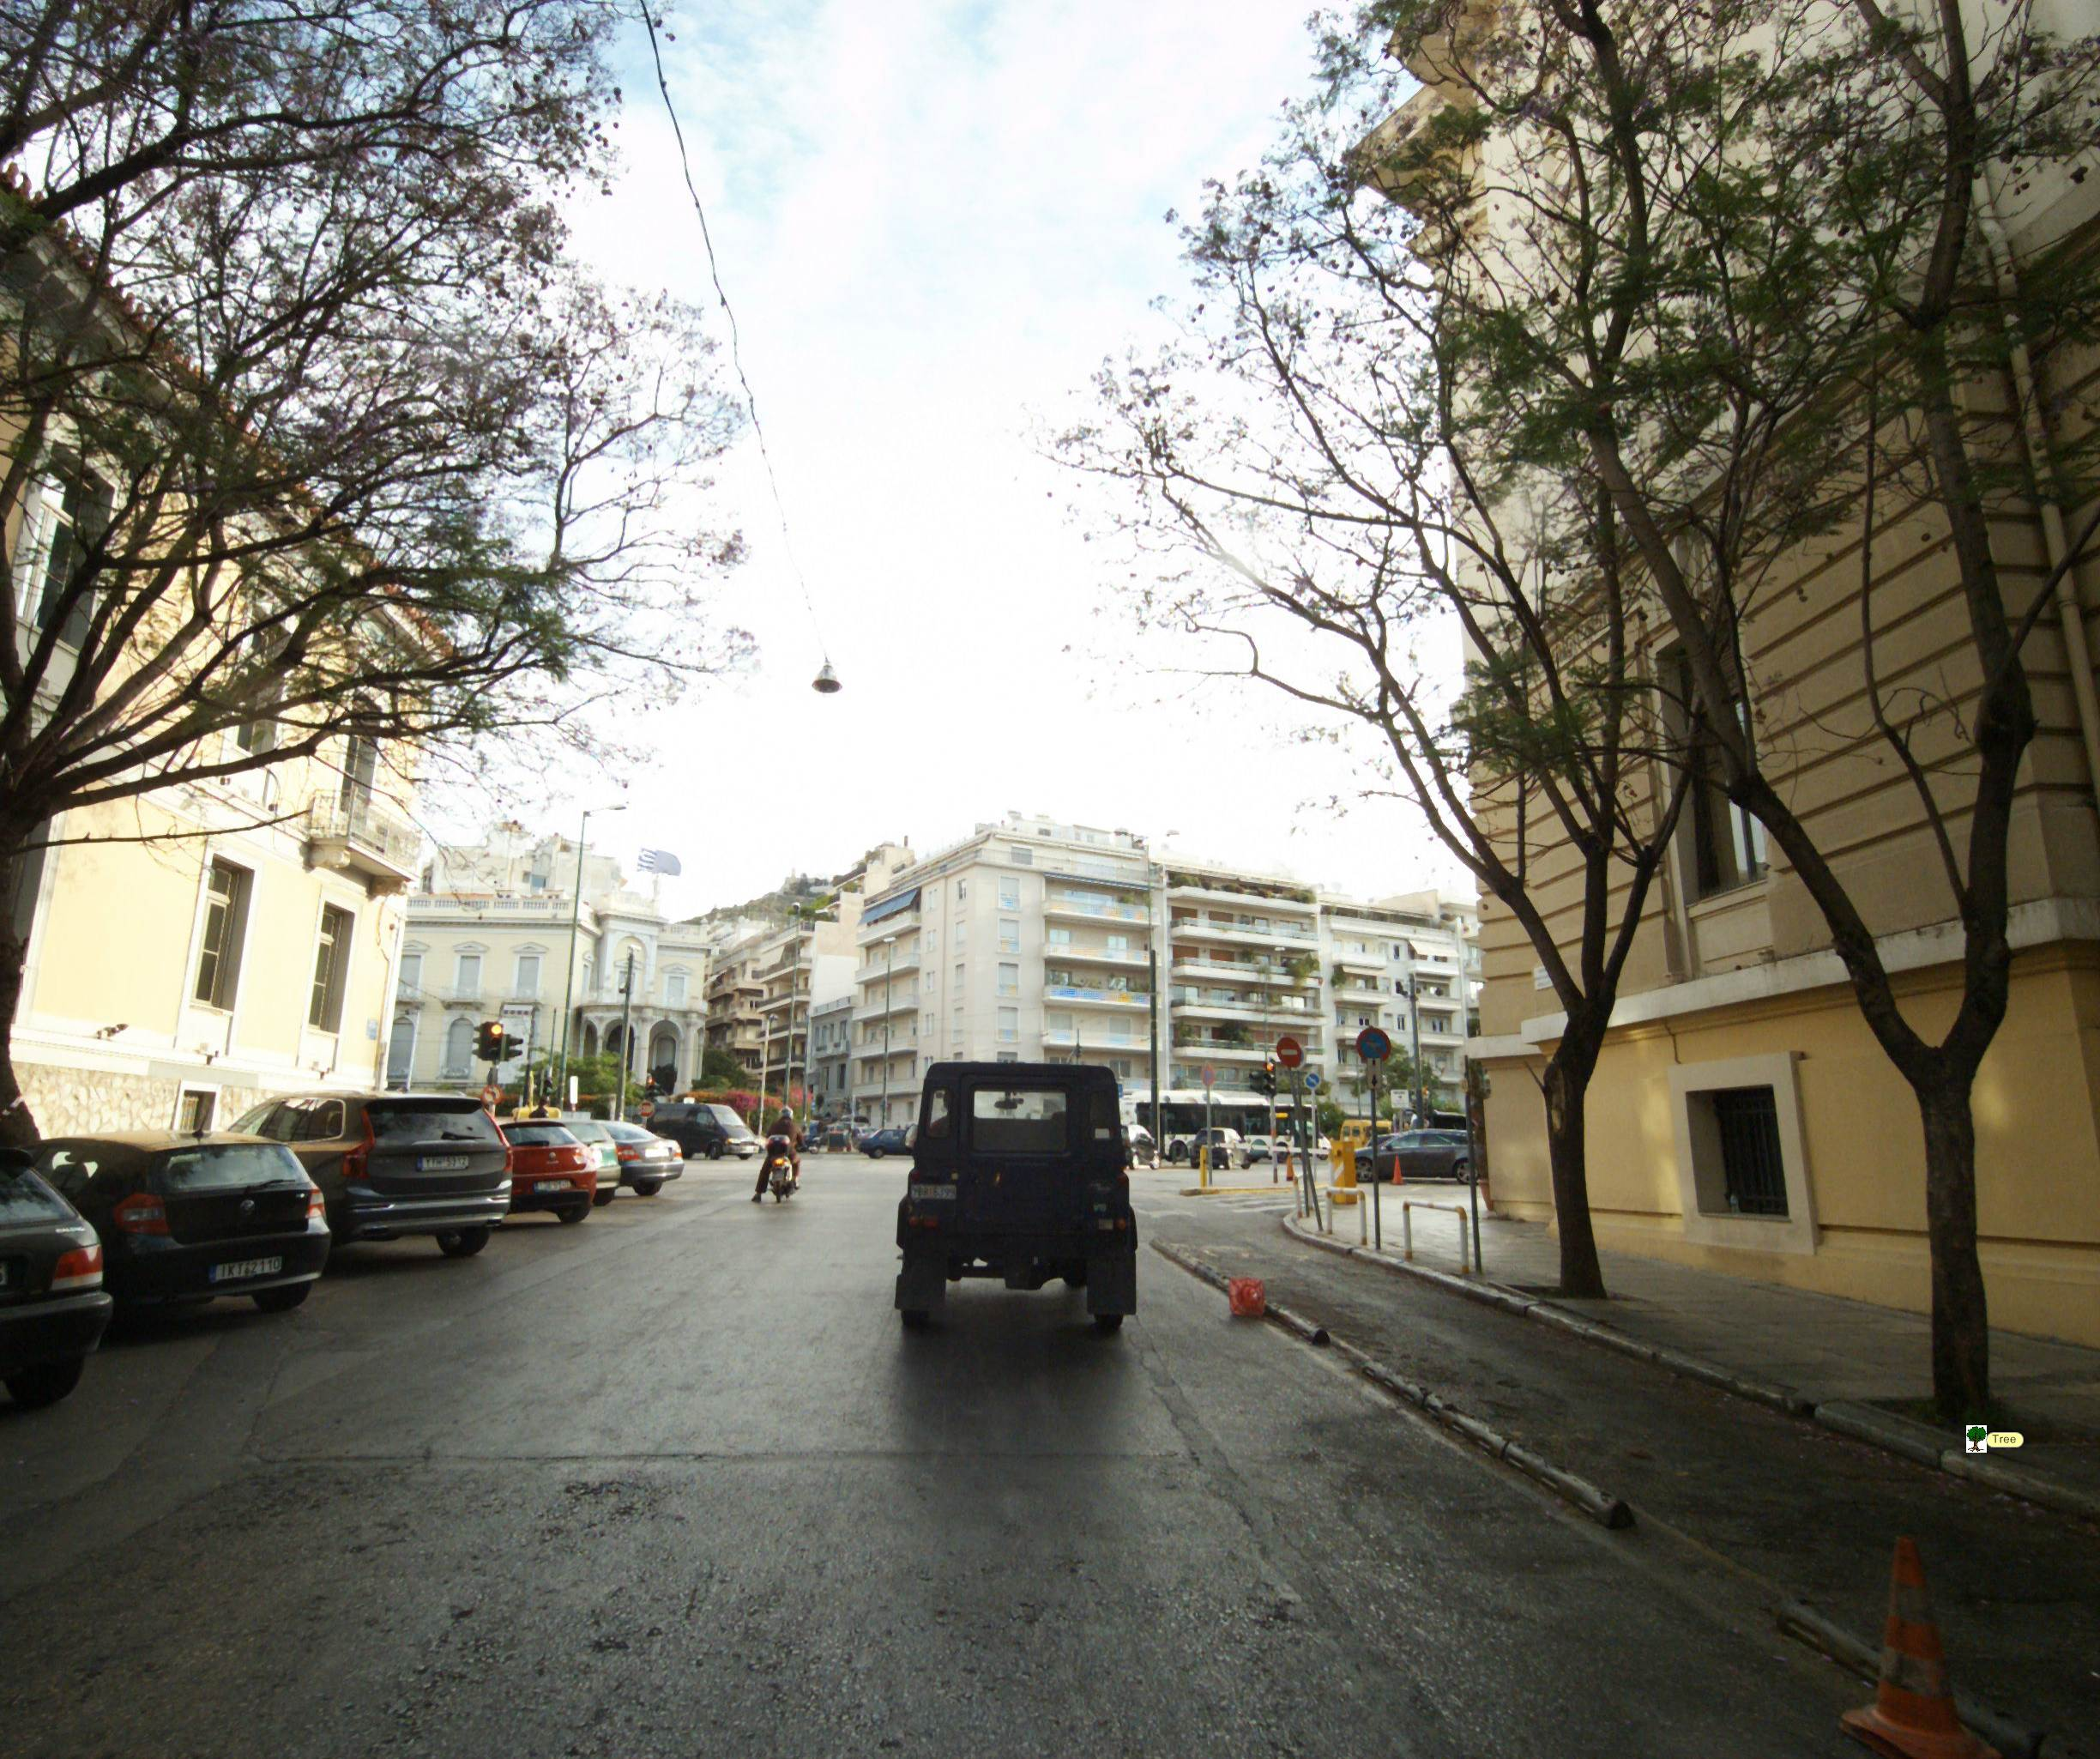tree: (1575, 0, 2100, 1480)
